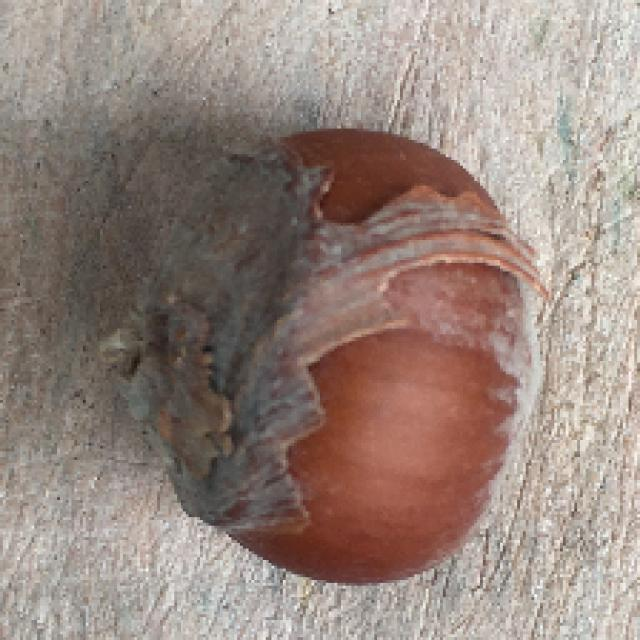hazelnut: (90, 119, 561, 590)
